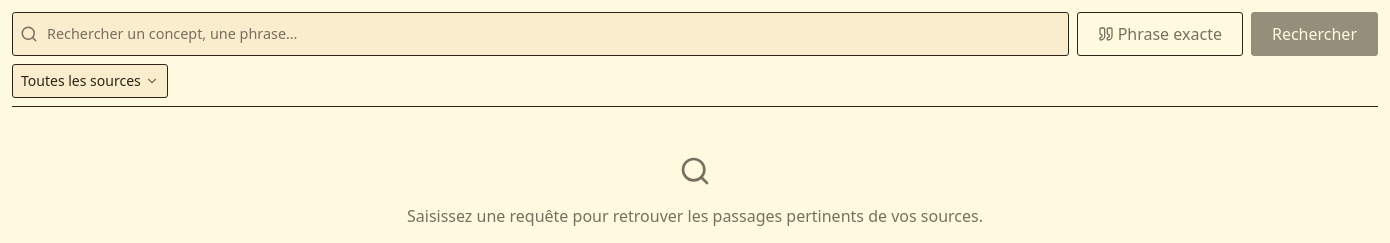
Test: CitationsView › reports an error when the search request fails
Expected: the text "Saisissez une requête" is shown, x1=407 y1=205 x2=983 y2=227
Type "neural" into the search field named "Rechercher des citations".
click(540, 34); type("neural")  # box x1=12 y1=12 x2=1069 y2=56
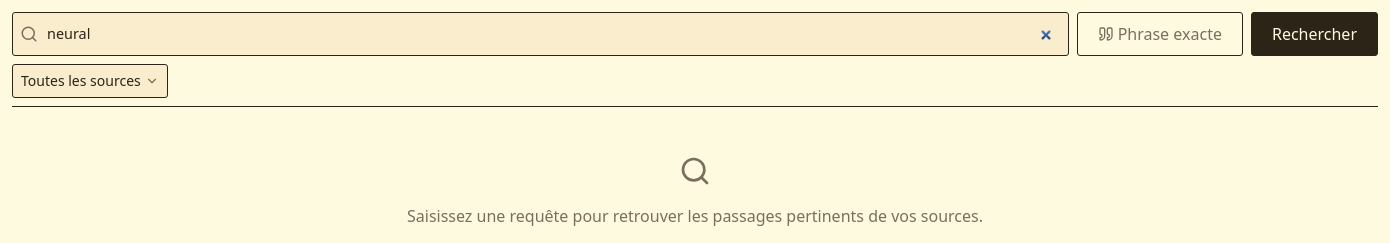
Click the button "Rechercher".
click(1314, 34)  # box x1=1251 y1=12 x2=1378 y2=56
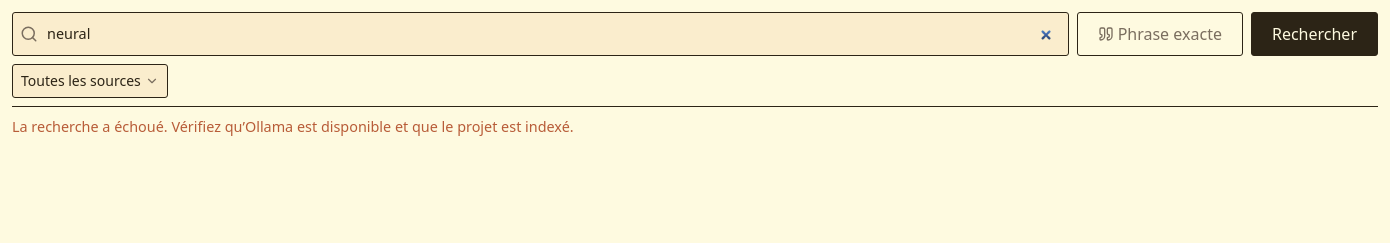
Now the text "La recherche a échoué" is shown, box x1=12 y1=117 x2=574 y2=136
